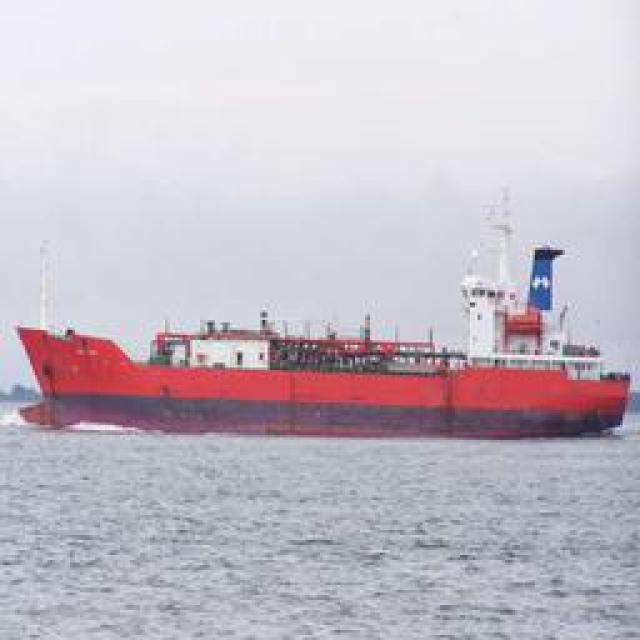Ship: (10, 267, 635, 437)
